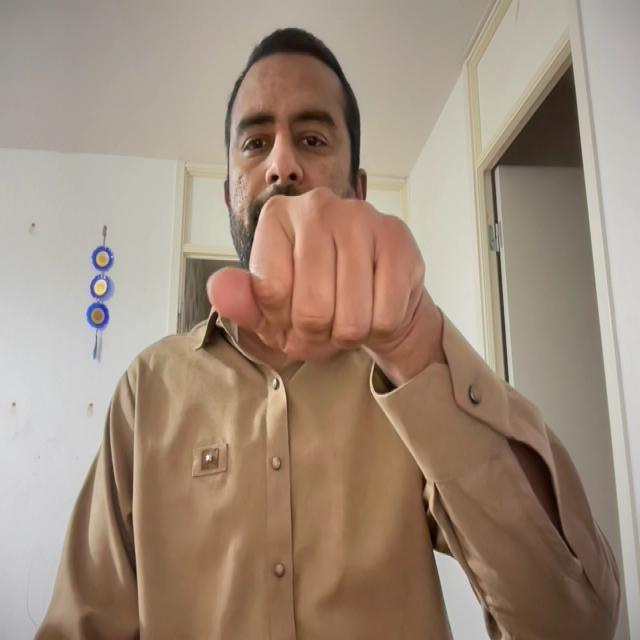Yes: (203, 150, 430, 372)
